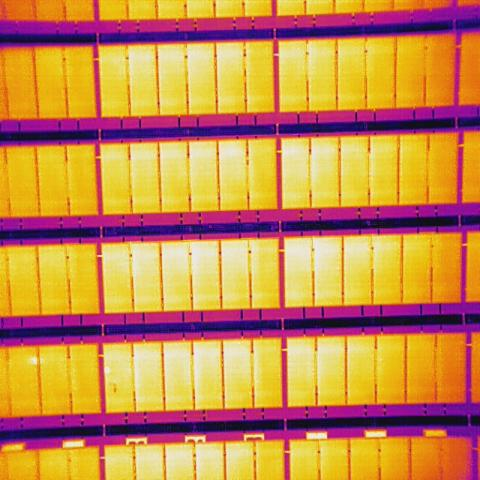fault: (30, 354, 38, 367), (104, 364, 111, 376)
